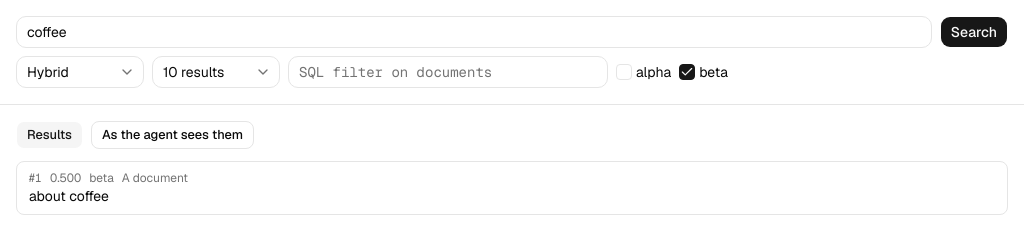
Test: SearchPanel › keeps the databases its address names once discovery finishes
Expected: the text "about coffee" is shown, [29,187,109,205]
Replace the text in the field with placeholder "Search the documents" with "milk" at {"x": 474, "y": 32}, box [16,16,932,48]
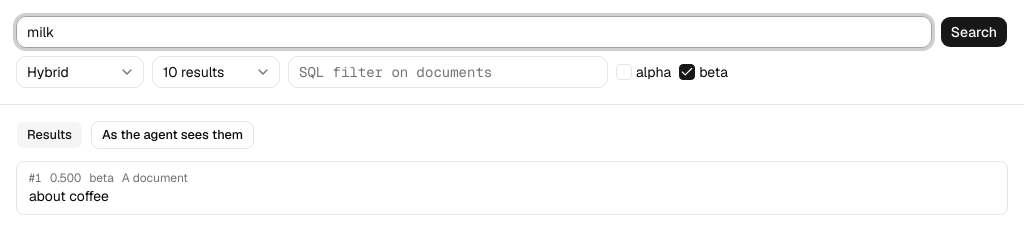
Click the button "Search" at {"x": 974, "y": 32}, box [940,16,1008,48]
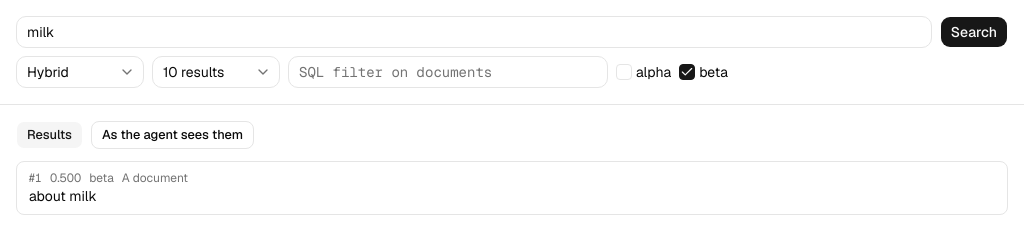
Now the text "about milk" is shown, box [29,187,97,205]
